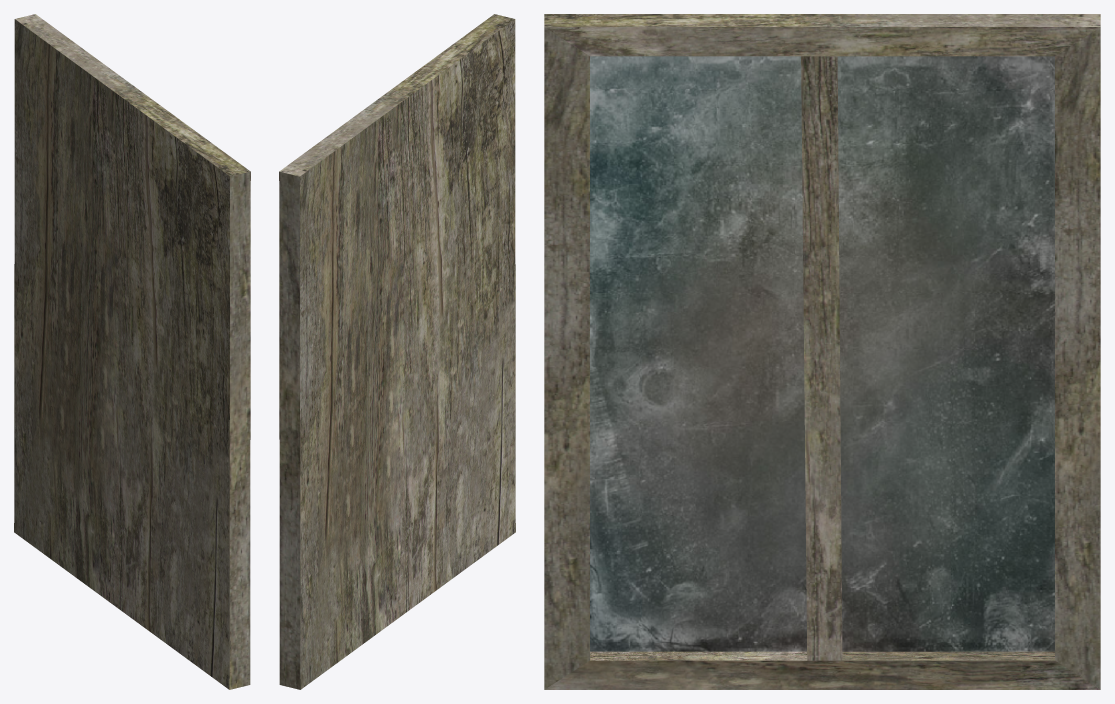
Rendered from window old.obj.
The picture shows the model from 3 angles, left to right: view 1: azimuth 30°, elevation 25°; view 2: azimuth 150°, elevation 25°; view 3: azimuth 270°, elevation 25°; orthographic projection. The views are drawn at different scales.
Parts seen in each view (by area): view 1: Cube_Cube.001; view 2: Cube_Cube.001; view 3: Cube_Cube.001.
Part boxes in pixels (box(x1,y1,x2,y2)): Cube_Cube.001: box(14, 14, 250, 689); Cube_Cube.001: box(279, 14, 515, 689); Cube_Cube.001: box(544, 14, 1100, 689).
Size of the model in its own units: 0.1036 by 2.3 by 1.75.
